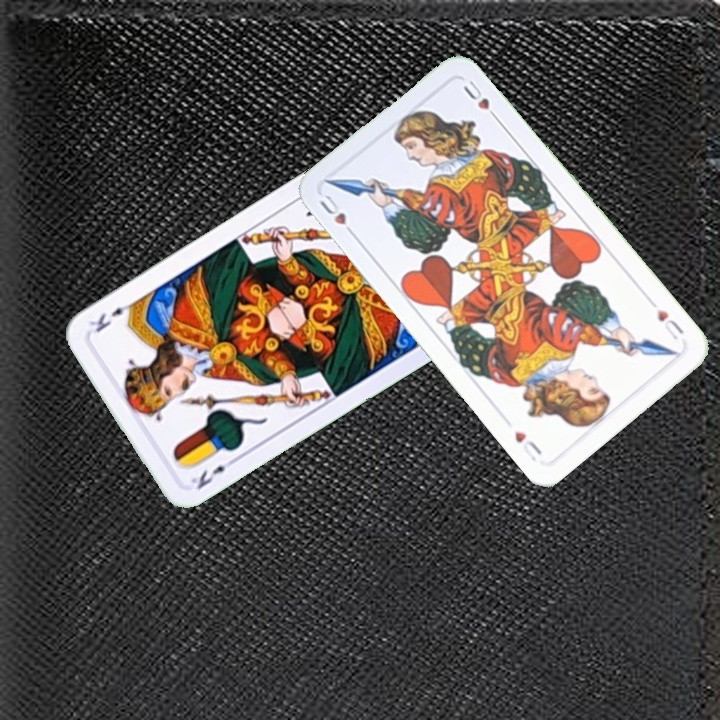EK: (186, 454, 239, 492)
HU: (315, 190, 359, 240), (653, 305, 686, 343)
